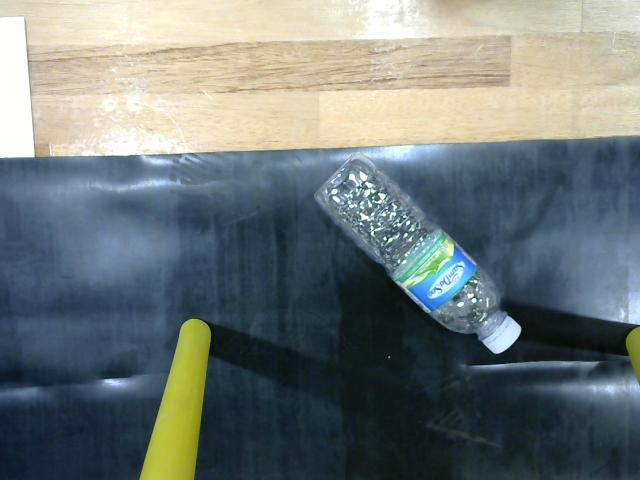bottle: (303, 147, 531, 360)
